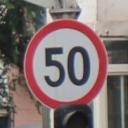speed_limit_50: (23, 19, 108, 110)
